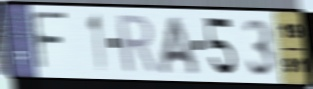1: (87, 10, 107, 76)
3: (243, 18, 277, 78)
5: (203, 16, 238, 78)
A: (157, 13, 201, 77)
F: (29, 10, 69, 74)
R: (114, 12, 160, 76)
